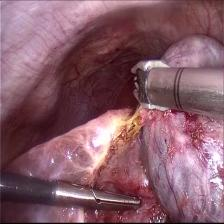Clipper: (126, 58, 180, 114)
Grasper: (55, 173, 144, 217)
